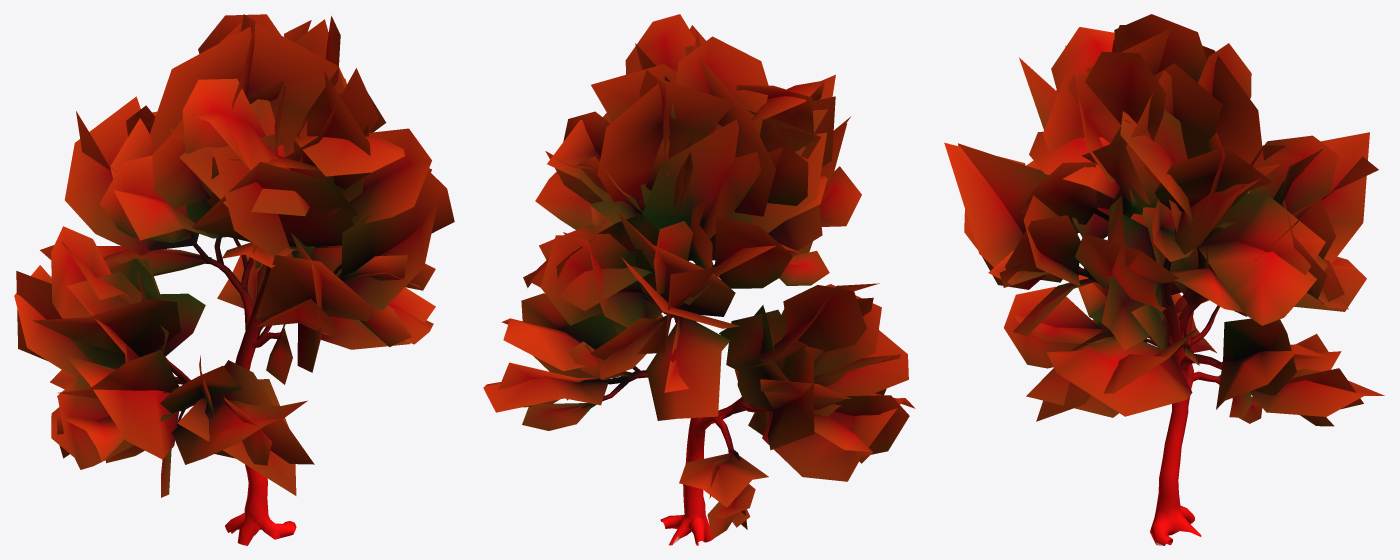
The model's file is ShrubTree(NR)_B.fbx.
The picture shows the model from 3 angles, left to right: view 1: azimuth 30°, elevation 25°; view 2: azimuth 150°, elevation 25°; view 3: azimuth 270°, elevation 25°; orthographic projection. The views are drawn at different scales.
Visible parts, largest first — view 1: ShrubTree(NR)_B_Leaves_LOD0, ShrubTree(NR)_B_Bark_LOD0; view 2: ShrubTree(NR)_B_Leaves_LOD0, ShrubTree(NR)_B_Bark_LOD0; view 3: ShrubTree(NR)_B_Leaves_LOD0, ShrubTree(NR)_B_Bark_LOD0.
Part boxes in pixels (x1,y1,x2,y2): ShrubTree(NR)_B_Leaves_LOD0: (14, 14, 454, 497); ShrubTree(NR)_B_Bark_LOD0: (118, 192, 366, 545); ShrubTree(NR)_B_Leaves_LOD0: (483, 14, 915, 538); ShrubTree(NR)_B_Bark_LOD0: (581, 206, 778, 545); ShrubTree(NR)_B_Leaves_LOD0: (944, 14, 1384, 426); ShrubTree(NR)_B_Bark_LOD0: (1065, 212, 1231, 545).
Size of what is drawn, in the model's own units: 6.21 by 8.11 by 6.29.
